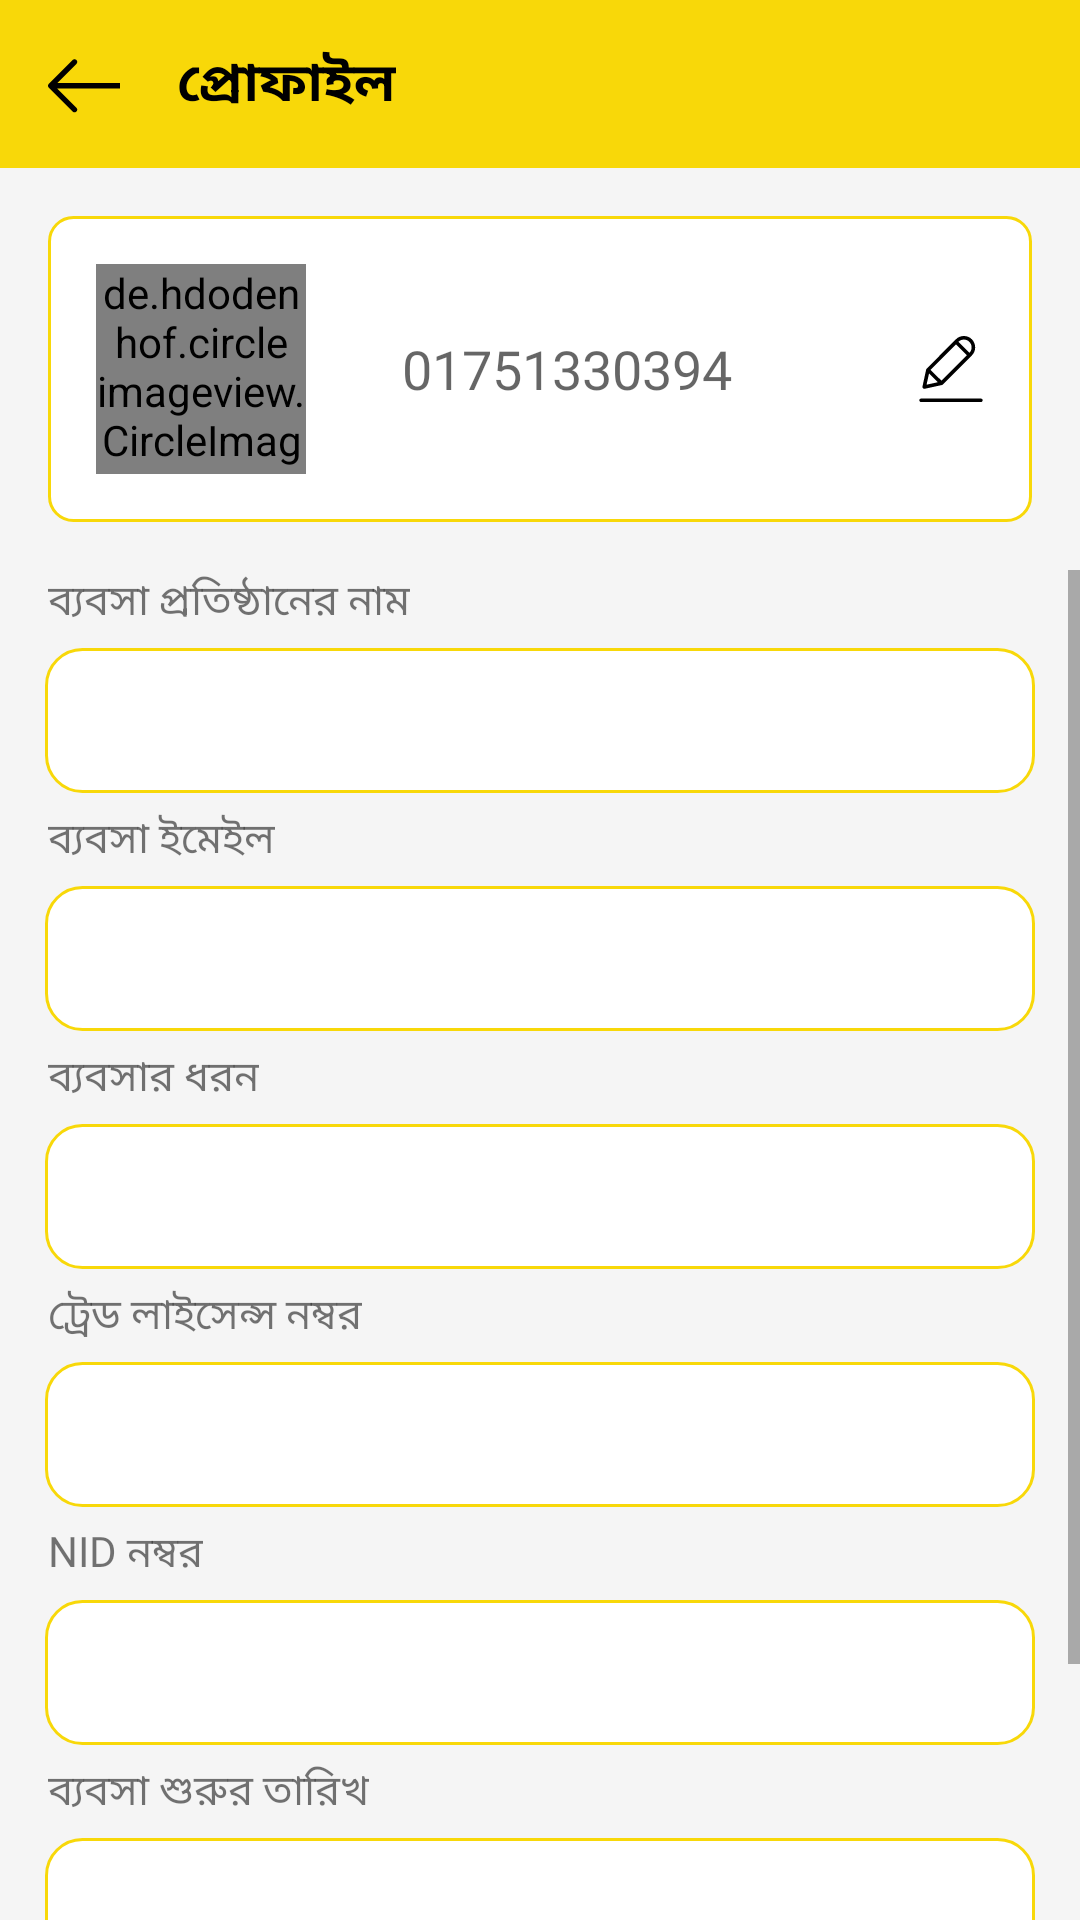

Screen size 1080×1920. Icon name, then its center in pixels as (x=x, y=y):
arrow: (x=84, y=86)
edit tool: (x=951, y=369)
